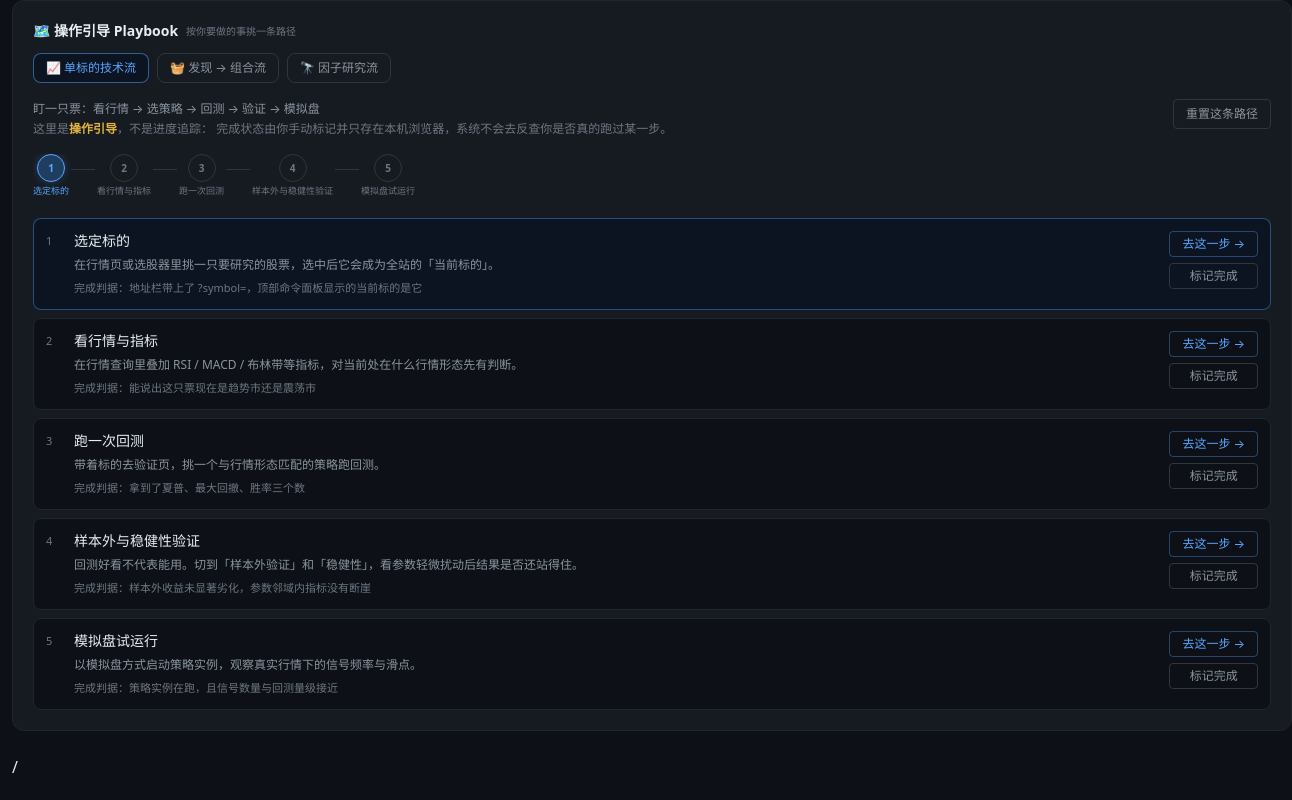
Test: Playbook 渲染 › 切换路径写回 URL
Click the tab "🧺 发现 → 组合流" at (218, 68), box [157, 53, 279, 83]
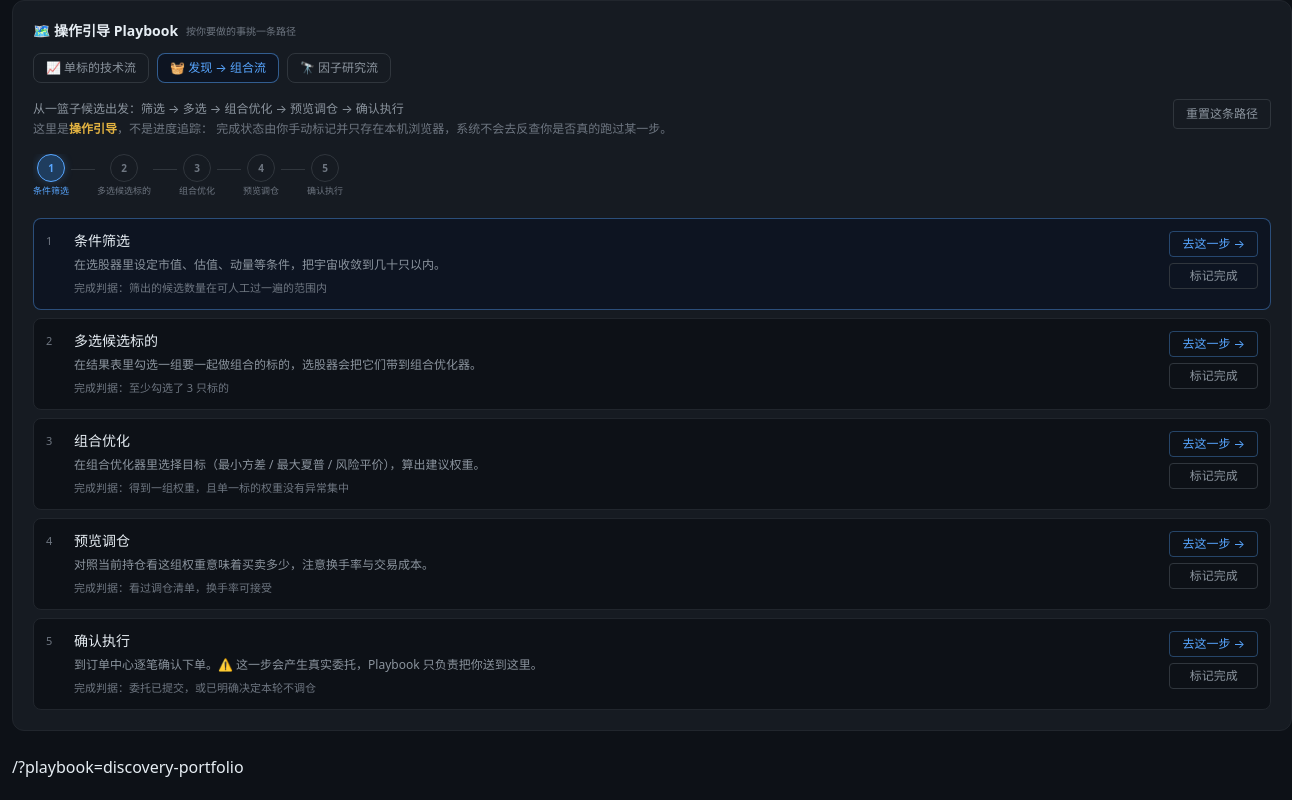
Expected: the text with test id "location" shows "playbook=discovery-portfolio", [12, 756, 244, 778]
